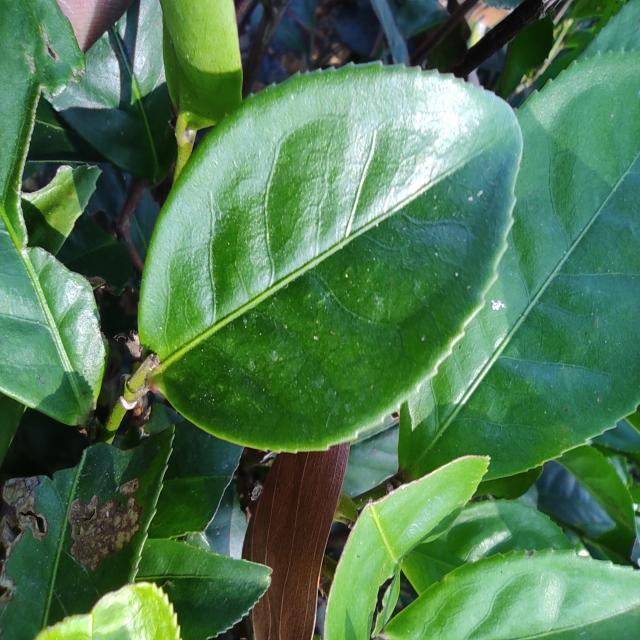Category B(2-4 days): (131, 54, 525, 457)
